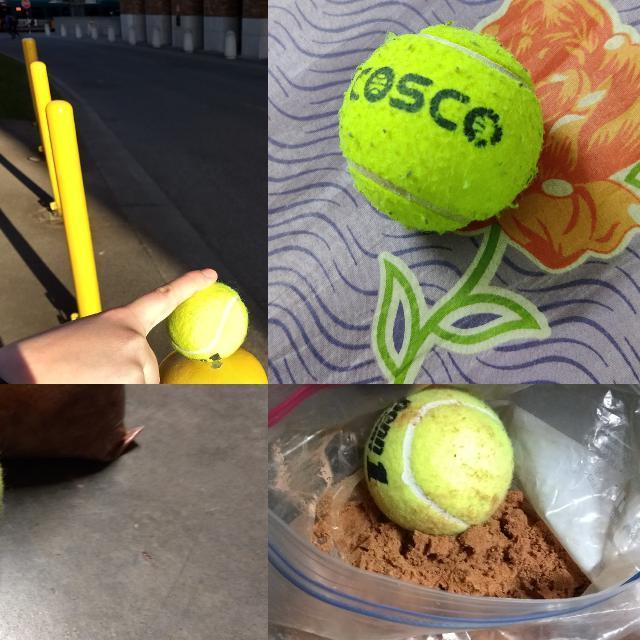tennis-ball: (338, 24, 544, 234), (362, 386, 516, 536), (166, 284, 248, 362)
